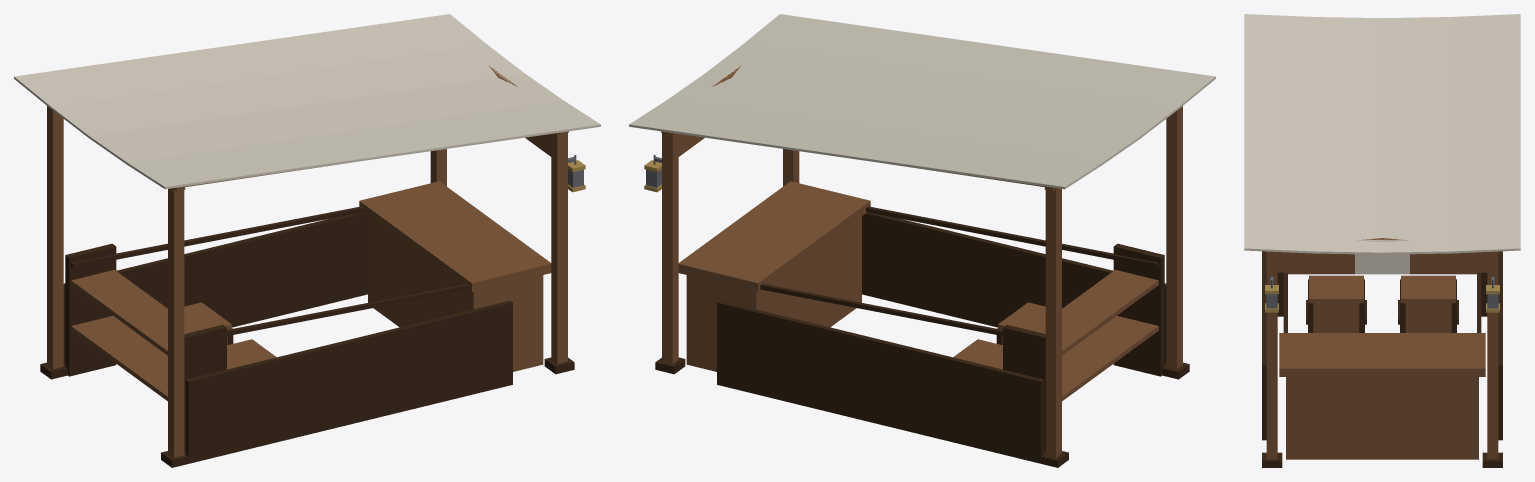
Rendered from SN_Market_Stall.glb.
3 views of the same model, side by side, from view 1: azimuth 30°, elevation 25°; view 2: azimuth 150°, elevation 25°; view 3: azimuth 270°, elevation 25° (orthographic). The views are drawn at different scales.
Visible parts, largest first — view 1: SN_Market_Stall; view 2: SN_Market_Stall; view 3: SN_Market_Stall.
Part boxes in pixels (x1,y1,x2,y2): SN_Market_Stall: (14,14,600,467); SN_Market_Stall: (629,14,1215,467); SN_Market_Stall: (1244,14,1520,467).
Bounding box in the file's own units: 5 × 3.2 × 3.
